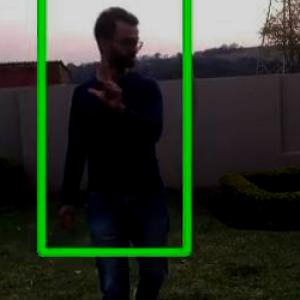land_hand: (85, 60, 127, 116)
